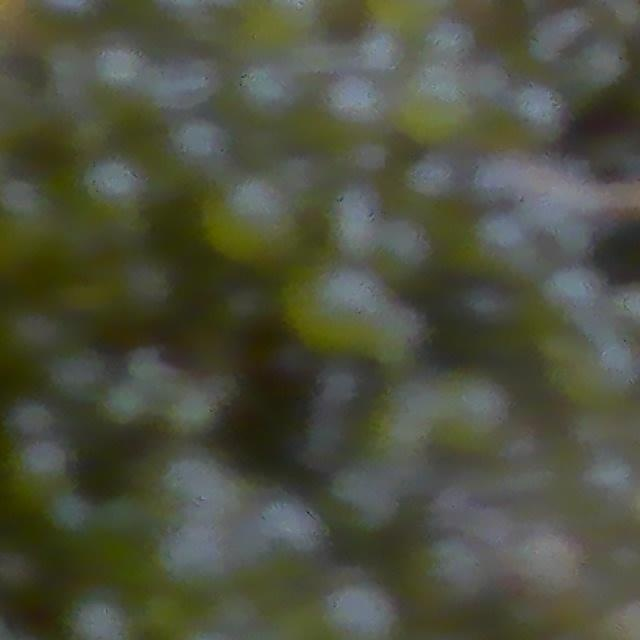SeaGrape: (284, 259, 390, 360), (202, 174, 299, 269), (413, 534, 496, 614), (108, 248, 183, 326), (317, 582, 400, 640), (81, 154, 149, 221), (44, 342, 110, 405), (7, 436, 71, 499)
